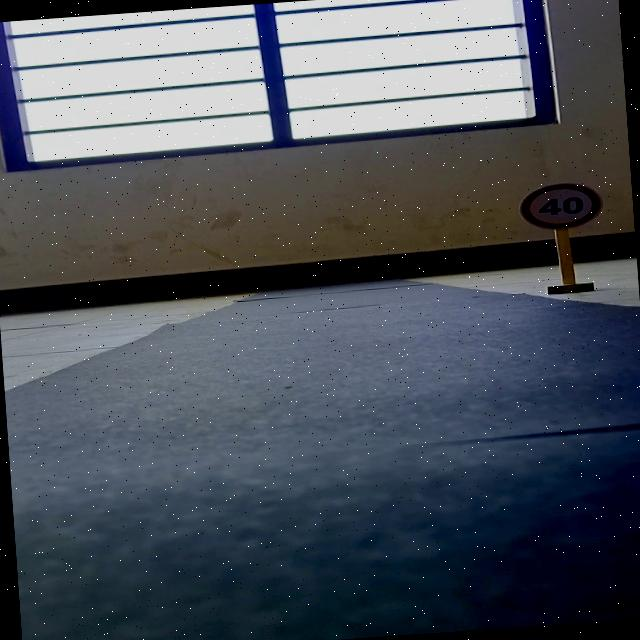Speed40: (514, 176, 604, 232)
